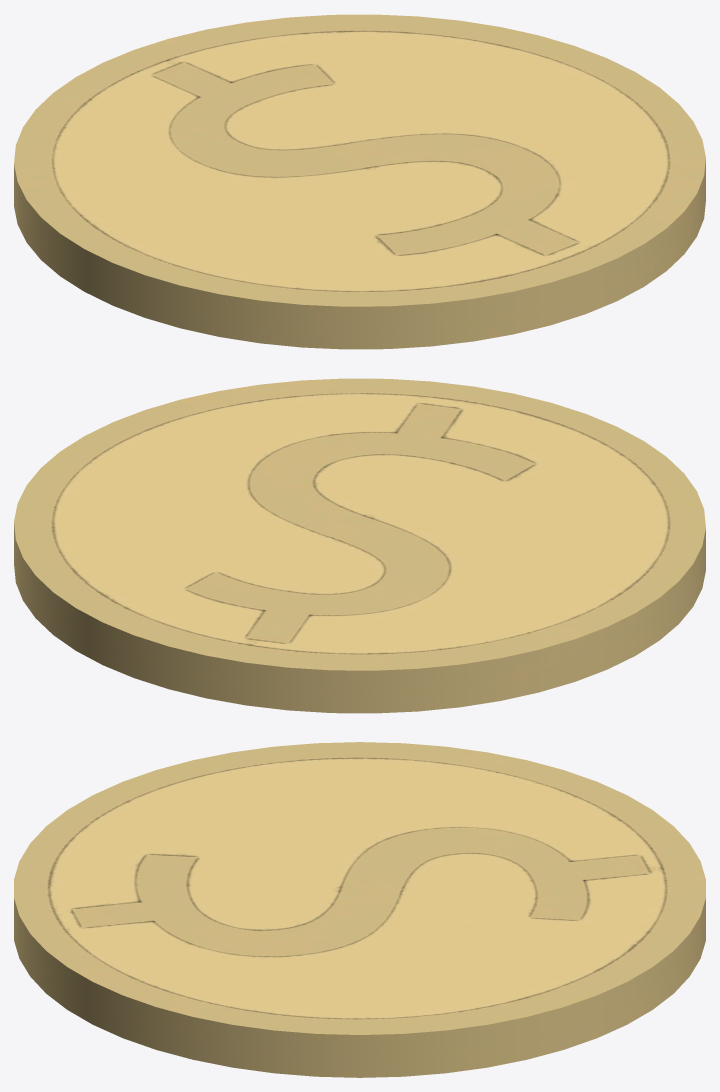
File: SM_Coin.fbx
The picture shows the model from 3 angles, top to bottom: view 1: azimuth 30°, elevation 25°; view 2: azimuth 150°, elevation 25°; view 3: azimuth 270°, elevation 25°; orthographic projection.
Parts seen in each view (by area): view 1: SM_Coin; view 2: SM_Coin; view 3: SM_Coin.
Boxes of the visible parts, x1,y1,x2,y2 form: SM_Coin: [14, 14, 705, 349]; SM_Coin: [14, 378, 705, 713]; SM_Coin: [14, 742, 705, 1077].
Bounding box in the file's own units: 200 × 13.63 × 200.
1 material, 1 textured.
